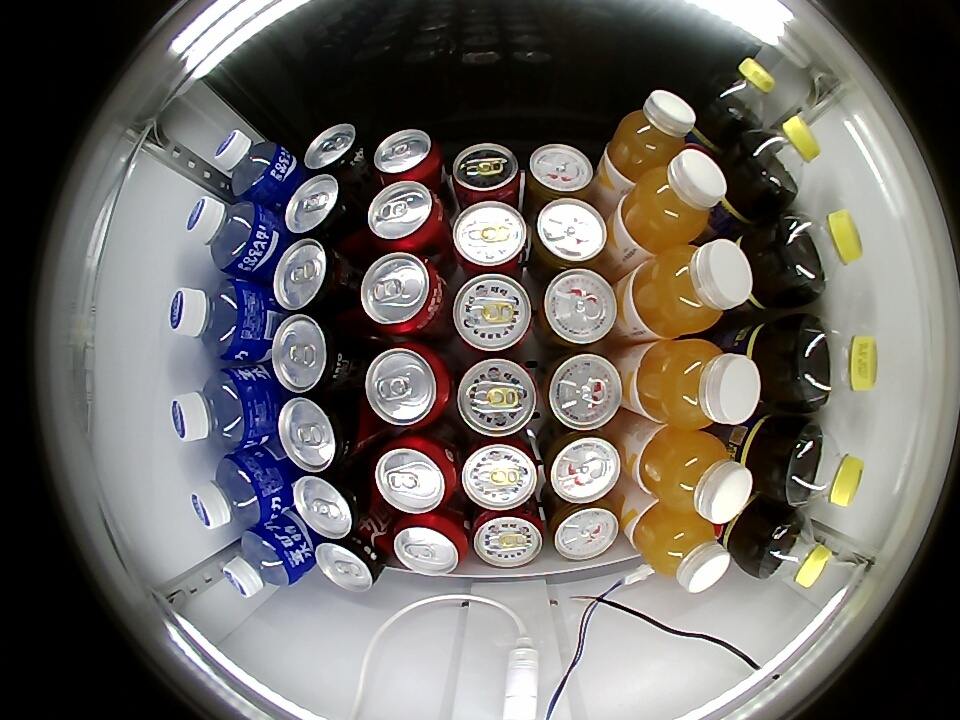baishikele: (795, 315, 879, 409), (778, 209, 864, 300), (780, 424, 865, 509), (740, 115, 821, 197), (754, 513, 834, 588), (705, 57, 777, 129)
baokuangli: (170, 367, 261, 448), (169, 279, 257, 362), (186, 195, 272, 276), (190, 452, 279, 530), (222, 525, 306, 598), (213, 129, 292, 202)
hongniu2: (536, 268, 618, 347), (543, 352, 624, 431), (543, 429, 622, 504), (531, 198, 609, 271), (548, 498, 621, 560), (526, 143, 597, 204)
kele: (364, 343, 450, 428), (360, 252, 444, 335), (374, 434, 458, 514), (367, 182, 443, 250), (392, 514, 469, 576), (372, 129, 441, 183)
lingdukele: (271, 314, 353, 394), (277, 394, 359, 472), (271, 238, 350, 314), (292, 467, 371, 539), (282, 174, 358, 241), (314, 531, 387, 592), (304, 123, 368, 179)
wangzainiunai: (455, 357, 540, 438), (450, 273, 534, 352), (460, 432, 539, 511), (450, 200, 529, 278), (471, 501, 545, 569), (451, 143, 521, 205)
weic: (631, 239, 753, 339), (618, 149, 727, 253), (635, 339, 762, 427), (637, 428, 754, 523), (630, 502, 731, 593), (607, 90, 697, 183)
